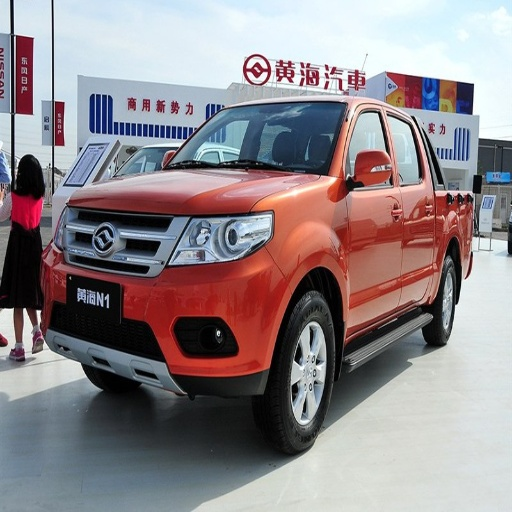back_glass: (383, 109, 434, 298)
back_right_light: (42, 209, 293, 391)
front_bumper: (66, 107, 346, 184)
front_glass: (343, 105, 403, 330)
front_left_door: (170, 209, 274, 264)
front_right_light: (66, 170, 320, 213)
tailgate: (439, 186, 475, 259)
trunk: (255, 291, 337, 452), (425, 257, 459, 345)
